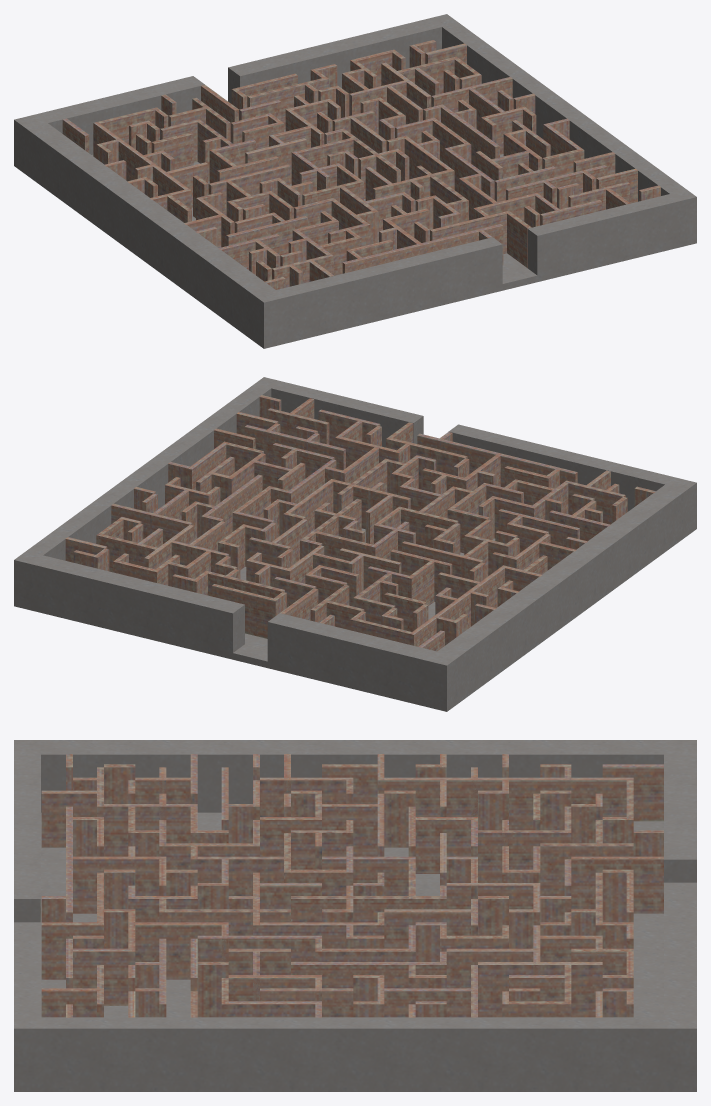
The model's file is Maze 3D Model by Periklis.glb.
3 views of the same model, one above another, from view 1: azimuth 30°, elevation 25°; view 2: azimuth 150°, elevation 25°; view 3: azimuth 270°, elevation 25° (orthographic). The views are drawn at different scales.
Visible parts, largest first — view 1: Maze; view 2: Maze; view 3: Maze.
Boxes of the visible parts, x1,y1,x2,y2 form: Maze: (14,14,696,348); Maze: (14,377,696,711); Maze: (14,740,696,1091).
Size of the model in its own units: 4000 by 409 by 4000.
Materials: 1 (1 with a texture image).
